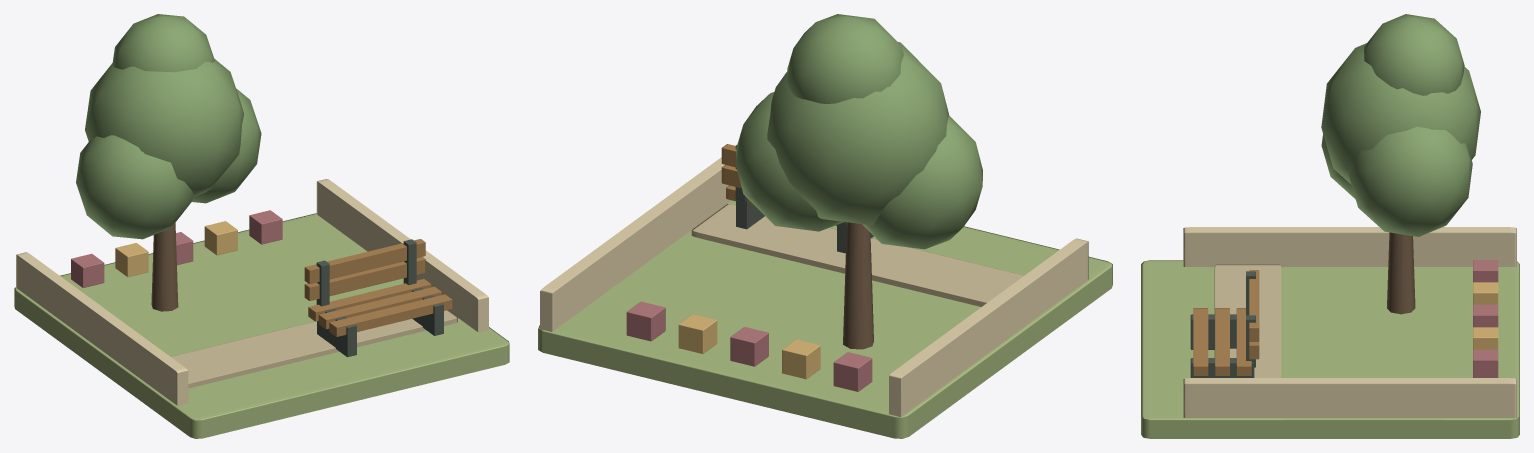
The model's file is park-1.glb.
3 renders of one model, left to right at view 1: azimuth 30°, elevation 25°; view 2: azimuth 150°, elevation 25°; view 3: azimuth 270°, elevation 25°, orthographic. The views are drawn at different scales.
Parts seen in each view (by area): view 1: park-1-0; view 2: park-1-0; view 3: park-1-0.
Part boxes in pixels (x1=…): park-1-0: x1=14, y1=14, x2=509, y2=438; park-1-0: x1=538, y1=14, x2=1112, y2=438; park-1-0: x1=1141, y1=14, x2=1519, y2=438.
Size of the model in its own units: 1.93 by 1.75 by 1.93.
